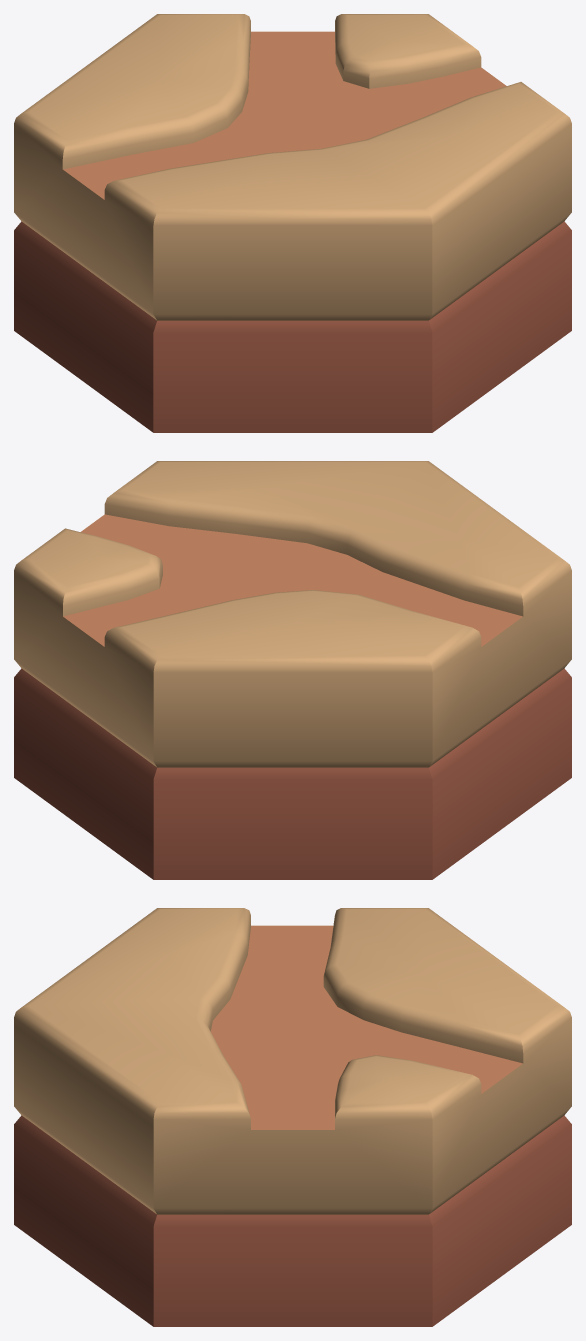
The model's file is kaykit-hex-sand-roadf-detail.glb.
3 renders of one model, top to bottom at view 1: azimuth 30°, elevation 25°; view 2: azimuth 150°, elevation 25°; view 3: azimuth 270°, elevation 25°, orthographic.
Visible parts, largest first — view 1: hex_sand_roadF_detail; view 2: hex_sand_roadF_detail; view 3: hex_sand_roadF_detail.
Part boxes in pixels (x1=…): hex_sand_roadF_detail: x1=14, y1=14, x2=571, y2=432; hex_sand_roadF_detail: x1=14, y1=461, x2=571, y2=879; hex_sand_roadF_detail: x1=14, y1=908, x2=571, y2=1326.
Bounding box in the file's own units: 2 × 1 × 2.31.
